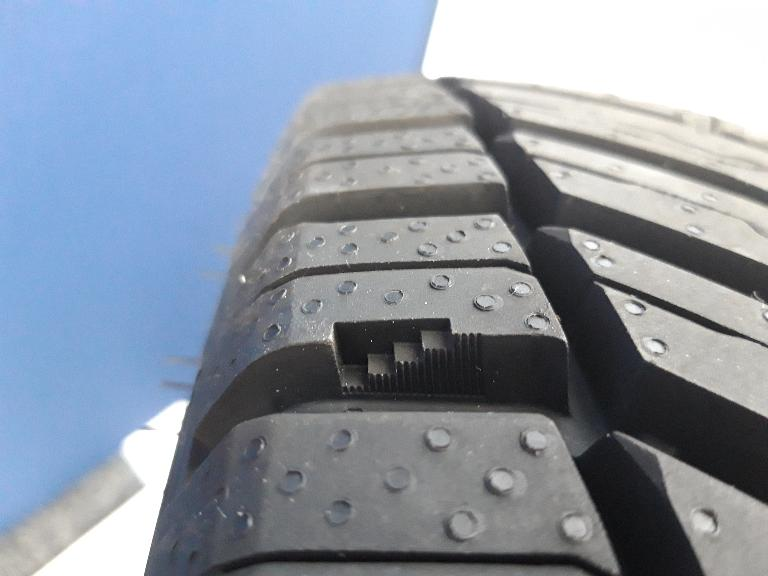temoin:100: (320, 312, 490, 407)
